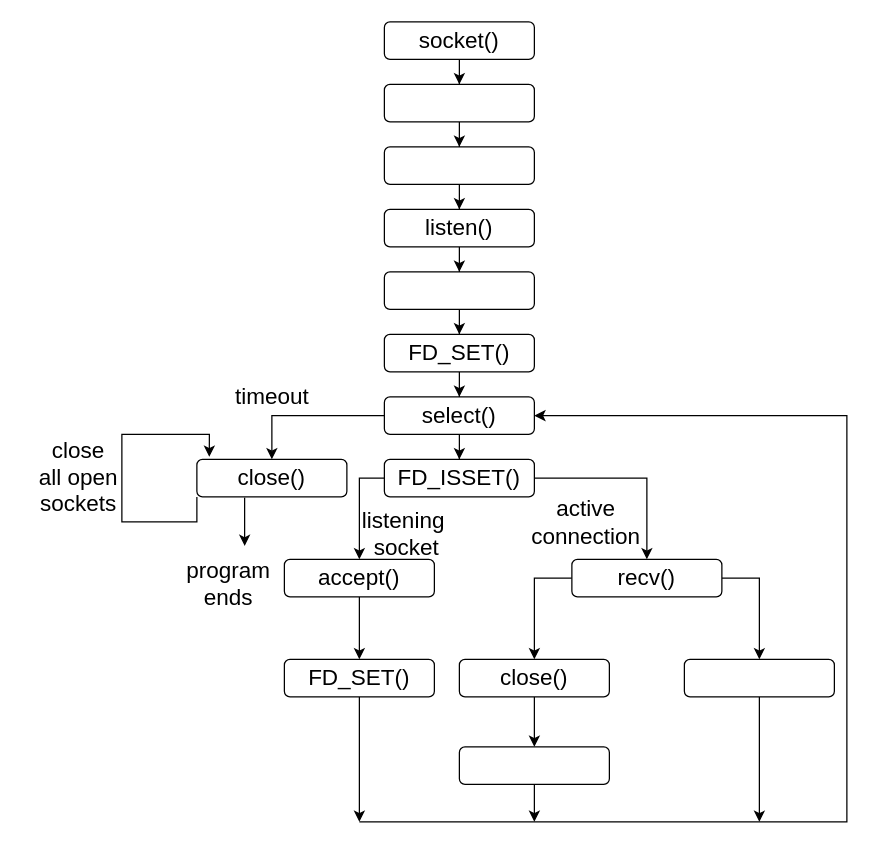
Some shapes in this 879 by 854 pixel diagram are drawn without their labels. Here are the shapes that lost their labels. From the top down, the centre of each, then its label:
At (x=458, y=102): "ioctl()".
At (x=458, y=165): "bind()".
At (x=458, y=290): "FD_ZERO()".
At (x=758, y=677): "send()".
At (x=533, y=765): "FD_CLR()".
